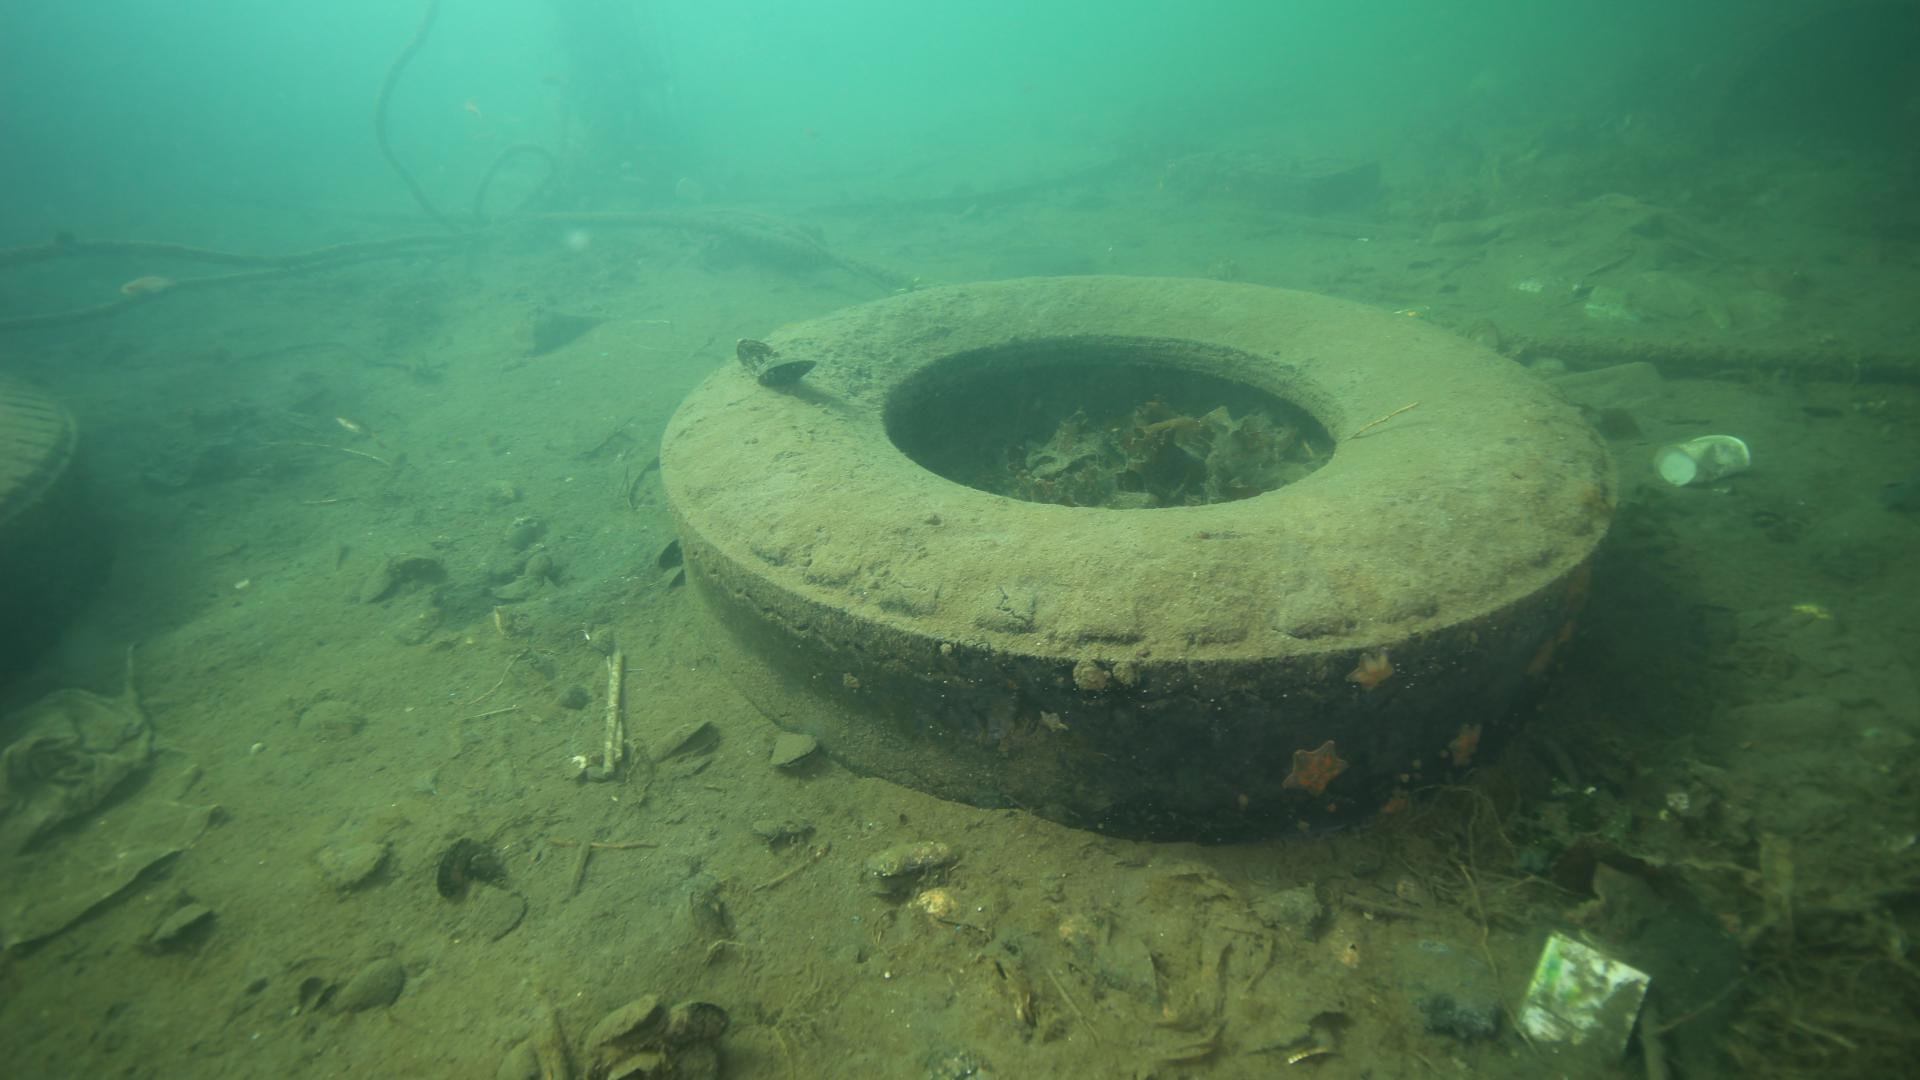bundle of ropes: (0, 0, 924, 290)
rope: (1439, 319, 1920, 384)
tire: (658, 272, 1622, 843)
